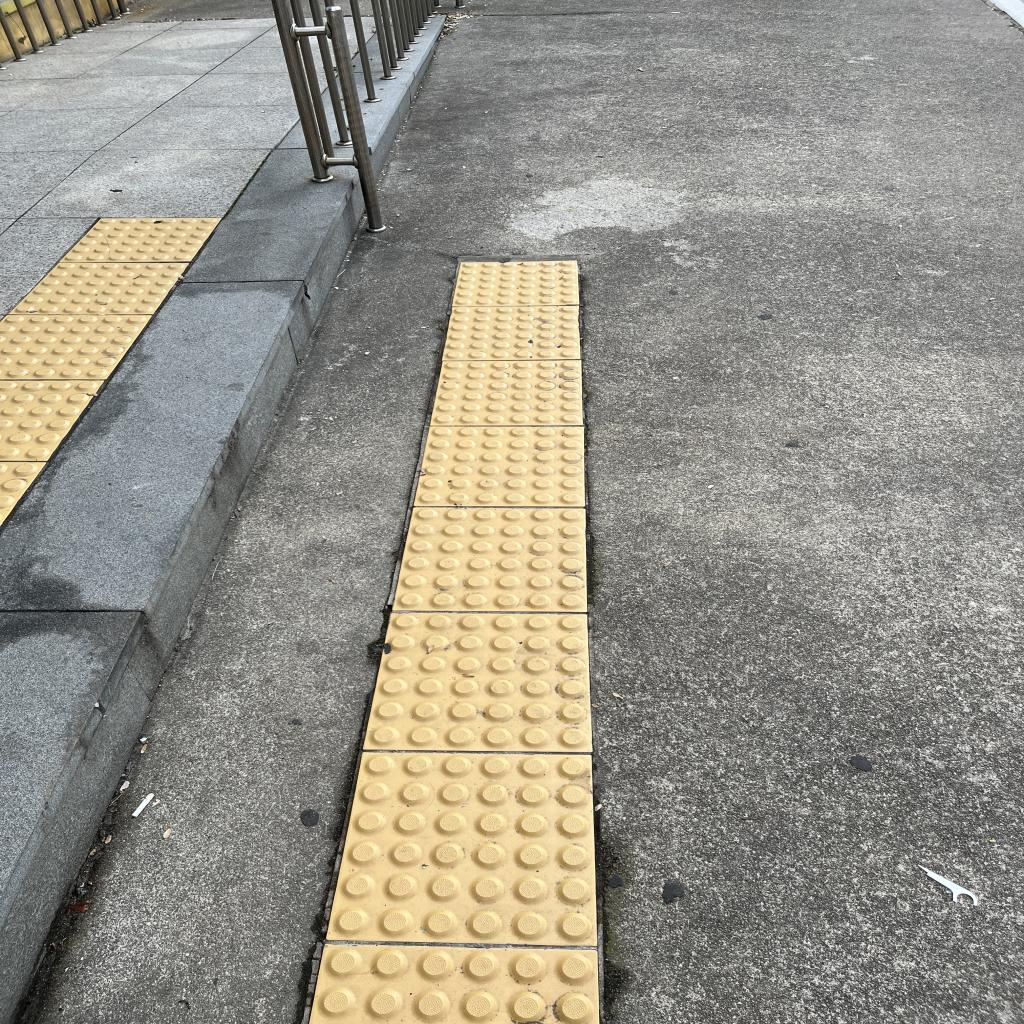Stop block normal: (328, 753, 600, 943), (390, 615, 587, 748), (394, 507, 588, 611), (430, 427, 583, 505), (431, 361, 581, 425), (451, 308, 580, 358)
